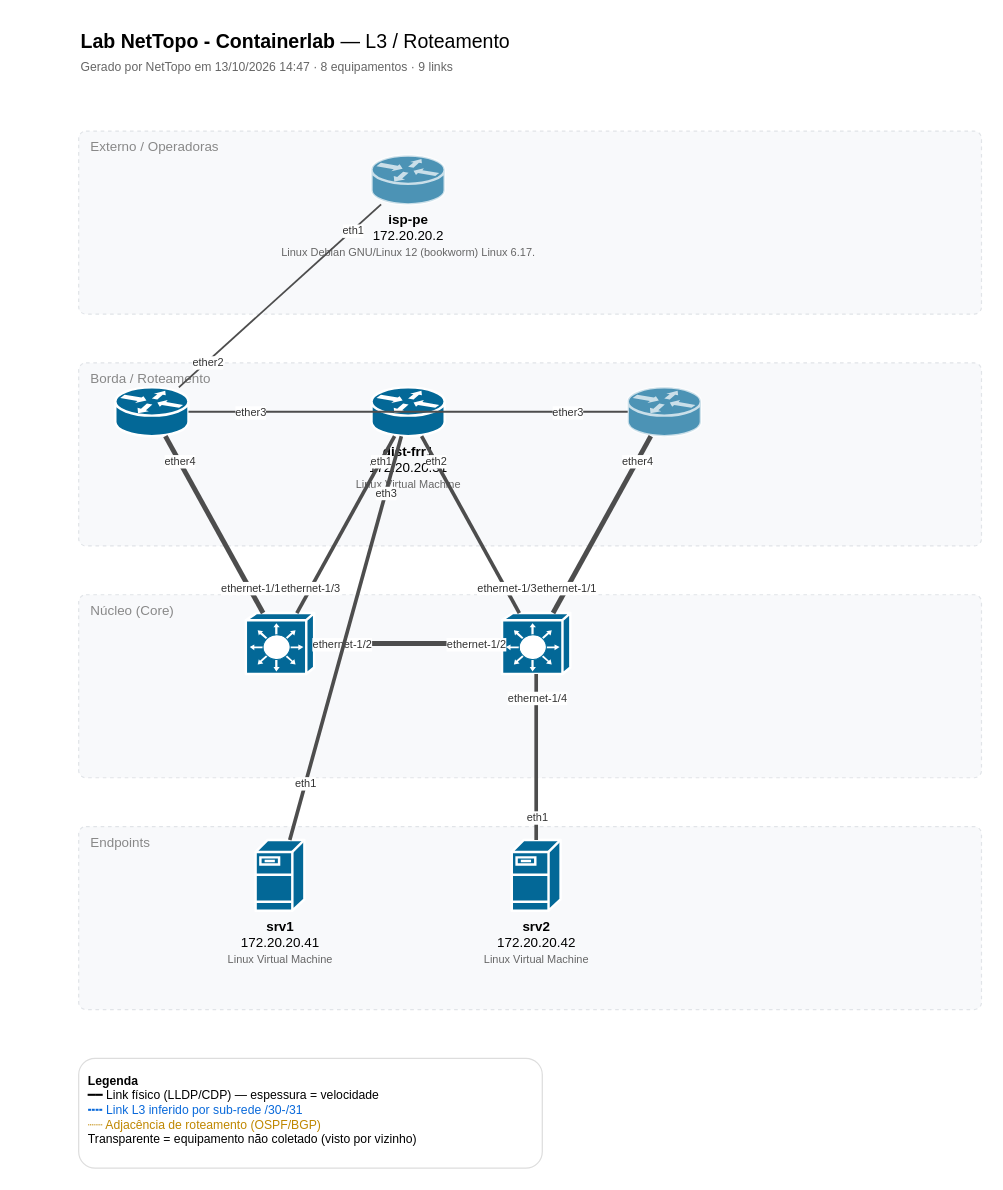
Some shapes in this 1003 by 1190 pixel diagram are drawn without their labels. Here are the shapes that lost their labels. From the top down, the centre of each, then its label:
point (151, 411): edge-mk1 172.20.20.11 MikroTik CHR QEMU Standard PC (i440FX + PIIX, 19
point (664, 411): edge-mk2 10.10.2.1 MikroTik MikroTik RouterOS 7.16.2 (stable) 2024-
point (279, 643): core-srl1 172.20.20.21 Nokia 7220 IXR-D2L
point (535, 643): core-srl2 172.20.20.22 Nokia 7220 IXR-D2L
